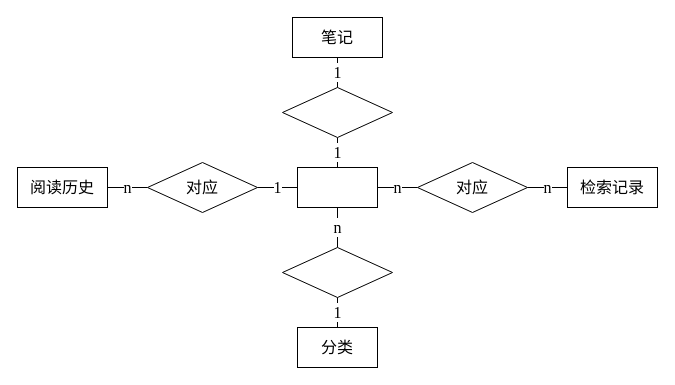
This 675x385 diagram has some shape labels left out. The shapes that lost their labels are listed below. From the top down, each one's centre as x and y in pixels, then its label:
At pixel 337 112: "拥有".
At pixel 337 187: "契约文书".
At pixel 337 272: "隶属".
